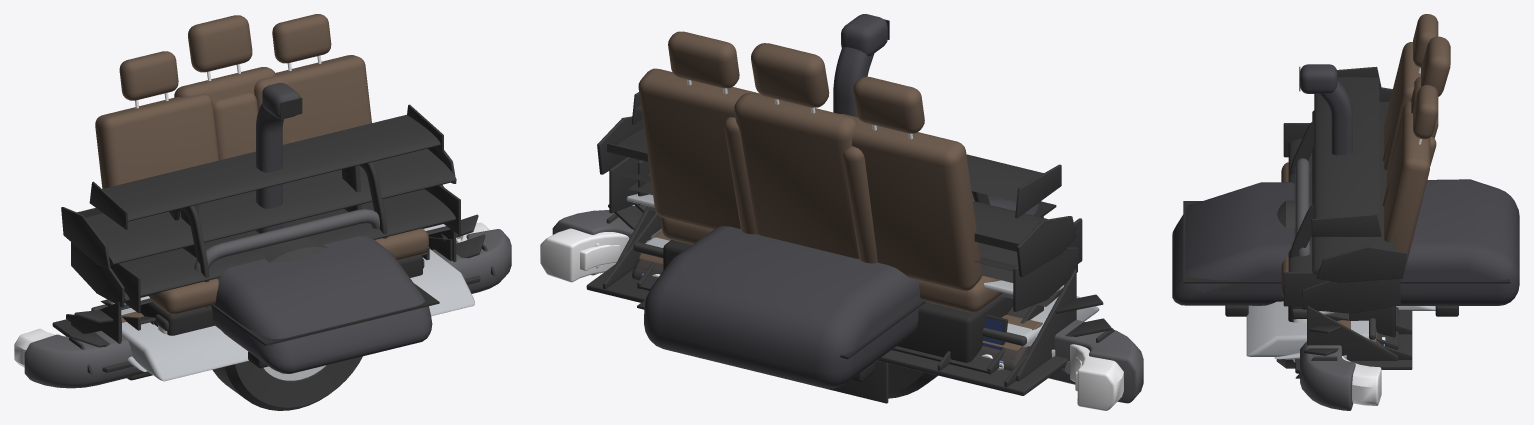
Rendered from car_parts.q.glb.
3 renders of one model, left to right at view 1: azimuth 30°, elevation 25°; view 2: azimuth 150°, elevation 25°; view 3: azimuth 270°, elevation 25°, orthographic. The views are drawn at different scales.
Visible parts, largest first — view 1: part_roof_box_shell, part_seat_rear_back, part_spoiler_swan_wing, part_spoiler_tall_wing, part_spoiler_whale_tray, part_spoiler_wing_wing, part_bumper_offroad_front_bar, part_spare_wheel_tire, part_seat_rear_headrests, part_seat_front_headrest, part_bullbar_tubes, part_seat_rear_cushion (+15 smaller); view 2: part_roof_box_shell, part_seat_rear_back, part_seat_front_back, part_seat_rear_headrests, part_bumper_american_bar, part_seat_rear_base, part_bumper_offroad_front_bar, part_seat_front_back_bolsters, part_seat_front_headrest, part_diffuser_race_plate, part_spoiler_biplane_endplates, part_spoiler_swan_endplates (+25 smaller); view 3: part_roof_box_shell, part_spoiler_tall_wing, part_seat_rear_back, part_spoiler_whale_tray, part_spoiler_biplane_endplates, part_spoiler_swan_endplates, part_bumper_offroad_front_bar, part_spoiler_swan_wing, part_diffuser_blade_sides, part_seat_rear_headrests, part_spoiler_tall_endplates, part_snorkel_pipe (+14 smaller).
Boxes of the visible parts, bbox=[...] form: part_roof_box_shell: bbox=[211, 236, 432, 373]; part_seat_rear_back: bbox=[95, 55, 371, 188]; part_spoiler_swan_wing: bbox=[86, 148, 456, 264]; part_spoiler_tall_wing: bbox=[102, 115, 440, 221]; part_spoiler_whale_tray: bbox=[121, 249, 474, 381]; part_spoiler_wing_wing: bbox=[121, 189, 455, 296]; part_bumper_offroad_front_bar: bbox=[24, 229, 511, 388]; part_spare_wheel_tire: bbox=[212, 237, 362, 410]; part_seat_rear_headrests: bbox=[119, 14, 331, 100]; part_seat_front_headrest: bbox=[188, 15, 252, 72]; part_bullbar_tubes: bbox=[194, 209, 379, 271]; part_seat_rear_cushion: bbox=[149, 228, 428, 314]; part_roof_box_shell: bbox=[644, 191, 1043, 388]; part_seat_rear_back: bbox=[638, 68, 982, 290]; part_seat_front_back: bbox=[734, 93, 859, 258]; part_seat_rear_headrests: bbox=[668, 31, 924, 133]; part_bumper_american_bar: bbox=[540, 228, 1123, 410]; part_seat_rear_base: bbox=[663, 240, 1013, 362]; part_bumper_offroad_front_bar: bbox=[552, 210, 1143, 403]; part_seat_front_back_bolsters: bbox=[724, 117, 877, 263]; part_seat_front_headrest: bbox=[751, 43, 829, 107]; part_diffuser_race_plate: bbox=[586, 264, 1068, 395]; part_spoiler_biplane_endplates: bbox=[609, 157, 1077, 311]; part_spoiler_swan_endplates: bbox=[597, 116, 1076, 276]; part_roof_box_shell: bbox=[1172, 179, 1519, 305]; part_spoiler_tall_wing: bbox=[1314, 77, 1379, 222]; part_seat_rear_back: bbox=[1384, 42, 1430, 273]; part_spoiler_whale_tray: bbox=[1246, 301, 1370, 356]; part_spoiler_biplane_endplates: bbox=[1302, 278, 1400, 313]; part_spoiler_swan_endplates: bbox=[1316, 87, 1407, 282]; part_bumper_offroad_front_bar: bbox=[1300, 341, 1355, 410]; part_spoiler_swan_wing: bbox=[1312, 102, 1394, 274]; part_diffuser_blade_sides: bbox=[1307, 305, 1398, 360]; part_seat_rear_headrests: bbox=[1413, 14, 1438, 139]; part_spoiler_tall_endplates: bbox=[1311, 66, 1381, 236]; part_snorkel_pipe: bbox=[1319, 80, 1352, 155].
Bounding box in the file's own units: 2.27 × 1.48 × 1.49.
